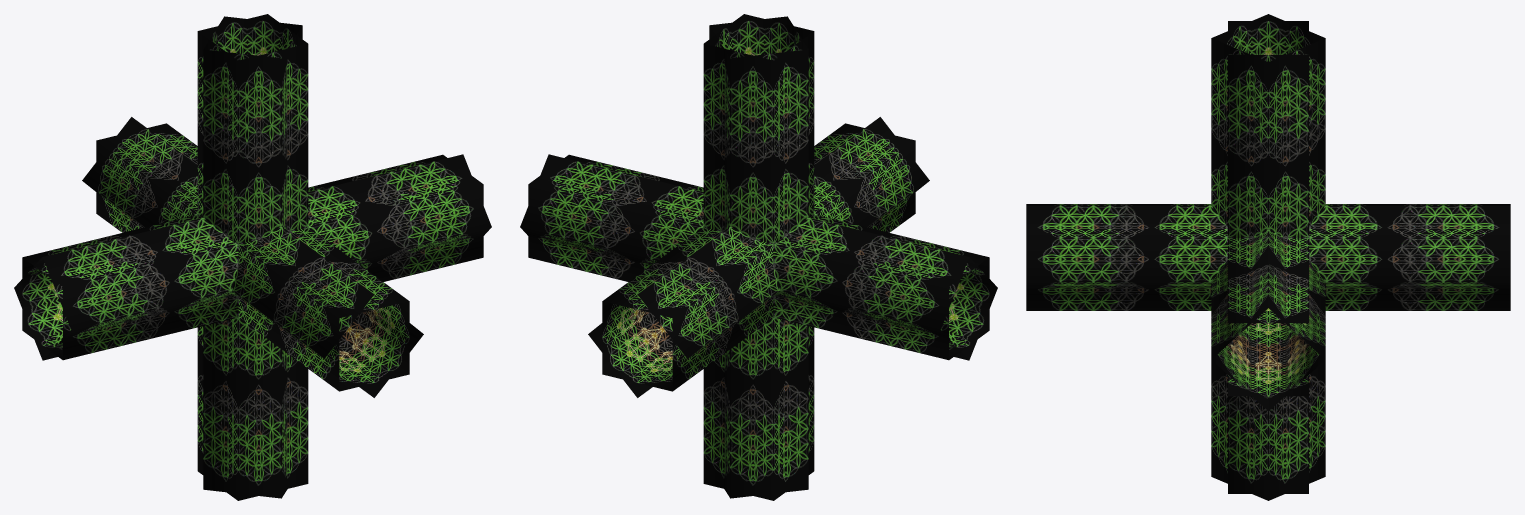
File: StarTetrahemihexacron15.gltf
3 renders of one model, left to right at view 1: azimuth 30°, elevation 25°; view 2: azimuth 150°, elevation 25°; view 3: azimuth 270°, elevation 25°, orthographic.
Visible parts, largest first — view 1: StarTetrahemihexacron; view 2: StarTetrahemihexacron; view 3: StarTetrahemihexacron.
Boxes of the visible parts, box(x1,y1,x2,y2) form: StarTetrahemihexacron: box(14, 14, 491, 500); StarTetrahemihexacron: box(520, 14, 997, 500); StarTetrahemihexacron: box(1026, 14, 1510, 500).
Bounding box in the file's own units: 6 × 6 × 6.
Materials: 1 (1 with a texture image).
